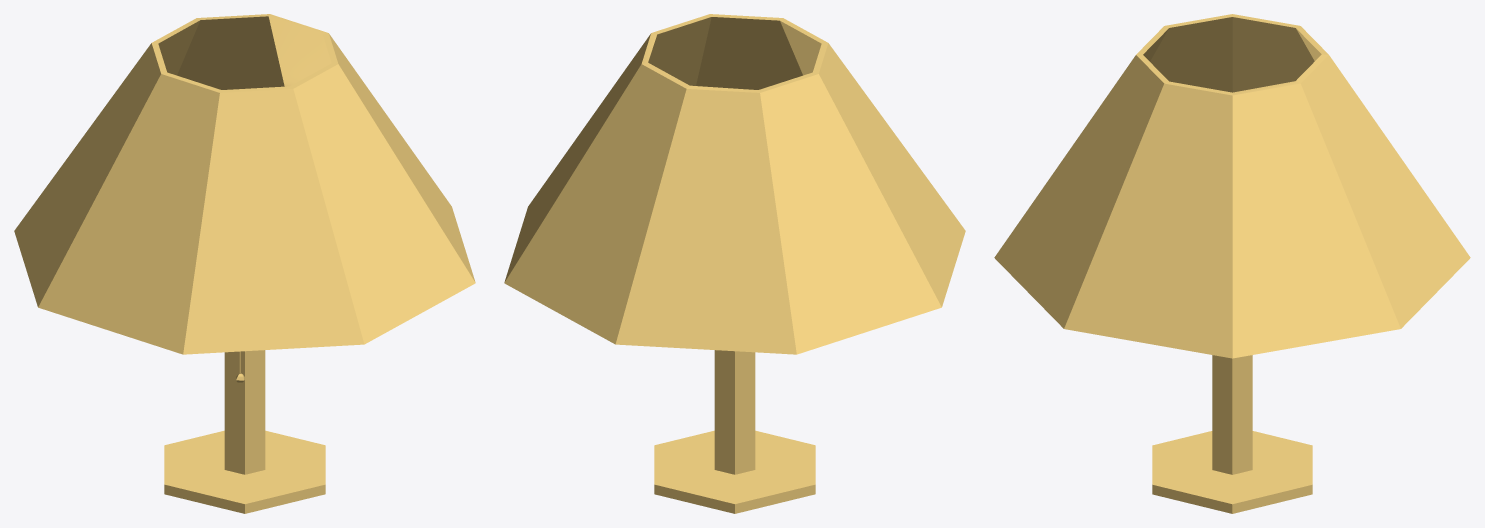
File: lamp.fbx
3 renders of one model, left to right at view 1: azimuth 30°, elevation 25°; view 2: azimuth 150°, elevation 25°; view 3: azimuth 270°, elevation 25°, orthographic.
Parts seen in each view (by area): view 1: pCylinder2_Corda_0; view 2: pCylinder2_Corda_0; view 3: pCylinder2_Corda_0.
Part boxes in pixels (x1=…): pCylinder2_Corda_0: x1=14, y1=14, x2=475, y2=513; pCylinder2_Corda_0: x1=504, y1=14, x2=965, y2=513; pCylinder2_Corda_0: x1=994, y1=14, x2=1470, y2=513.
Bounding box in the file's own units: 56.53 × 55.04 × 56.53.
